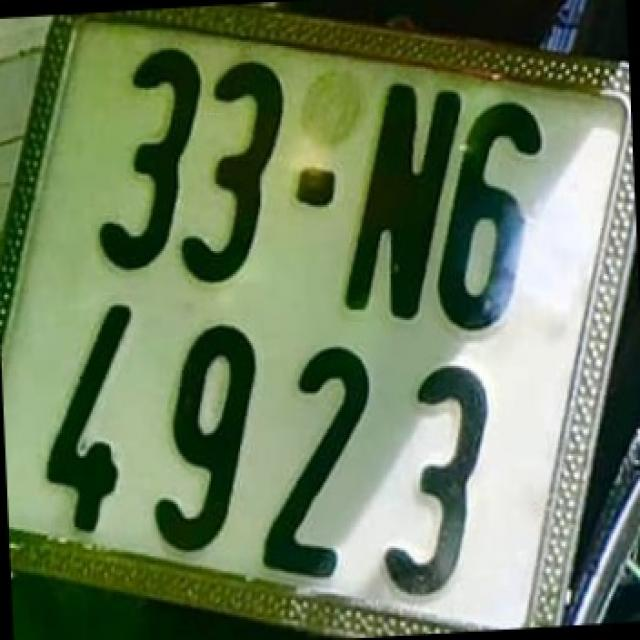2: (258, 334, 369, 584)
3: (376, 356, 493, 600), (87, 38, 200, 276), (184, 50, 286, 289)
4: (36, 295, 136, 537)
6: (436, 90, 546, 332)
9: (147, 316, 258, 558)
N: (342, 72, 444, 325)
